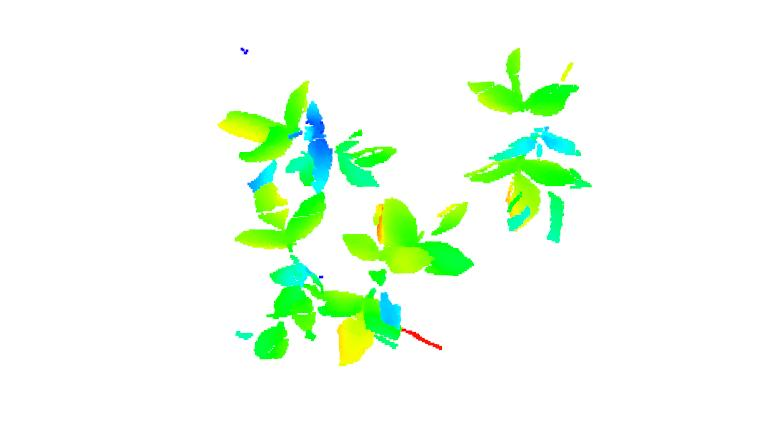mungbean: (460, 47, 602, 243), (317, 196, 478, 366), (207, 78, 401, 190), (236, 182, 336, 361)
